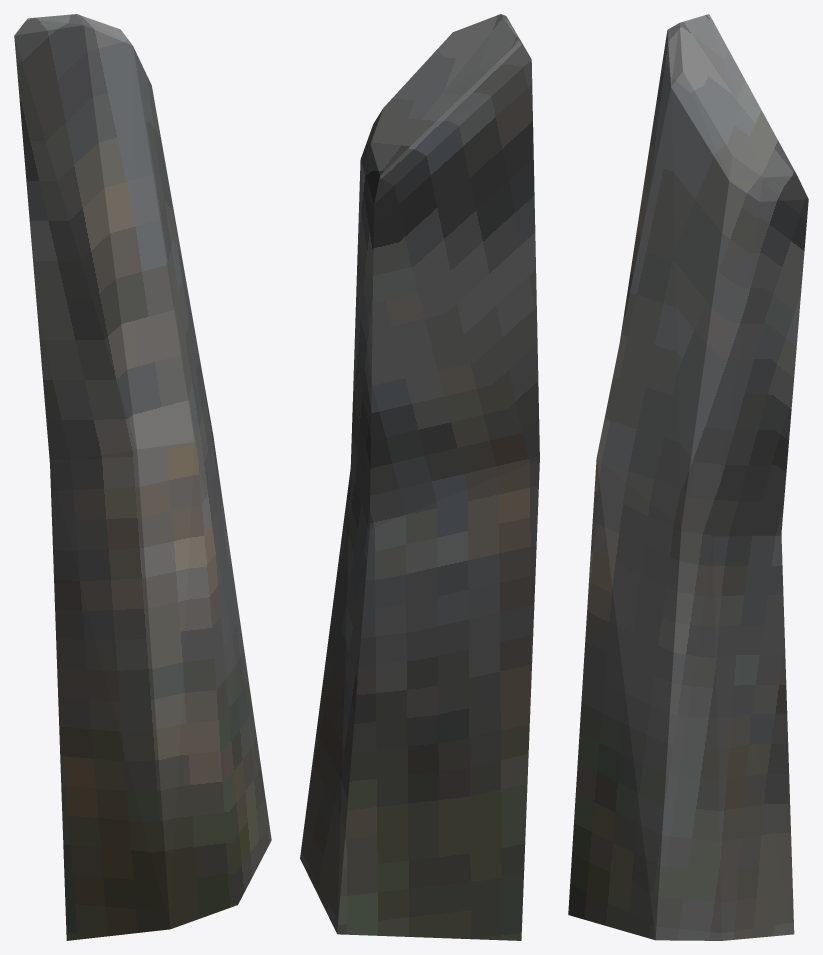
File: Curve_fence_leg_01.glb
3 views of the same model, side by side, from view 1: azimuth 30°, elevation 25°; view 2: azimuth 150°, elevation 25°; view 3: azimuth 270°, elevation 25° (orthographic). The views are drawn at different scales.
Parts seen in each view (by area): view 1: Curve_fence_leg_01; view 2: Curve_fence_leg_01; view 3: Curve_fence_leg_01.
Part boxes in pixels (x1,y1,x2,y2): Curve_fence_leg_01: [14, 14, 271, 940]; Curve_fence_leg_01: [300, 14, 539, 940]; Curve_fence_leg_01: [568, 14, 808, 940].
Bounding box in the file's own units: 0.7394 × 2.84 × 0.6967.
1 material, 1 textured.
